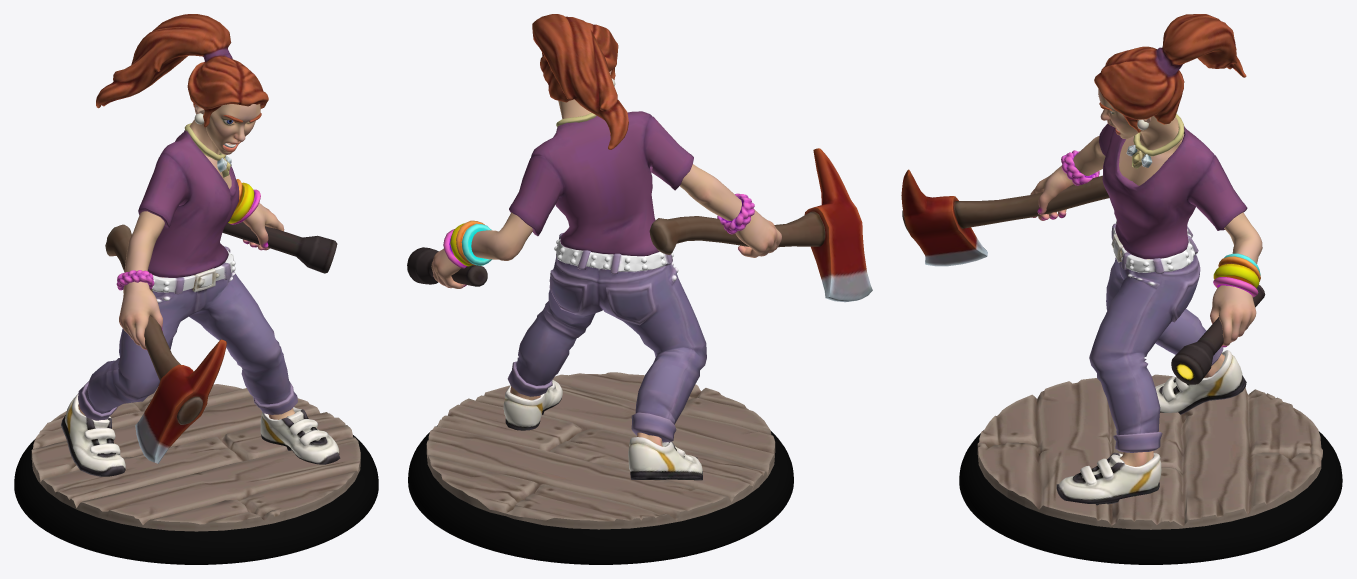
Rendered from beat-box-bowen.glb.
3 renders of one model, left to right at view 1: azimuth 30°, elevation 25°; view 2: azimuth 150°, elevation 25°; view 3: azimuth 270°, elevation 25°, orthographic. The views are drawn at different scales.
Size of the model in its own units: 0.7383 by 1 by 0.8425.
1 material, 1 textured.
